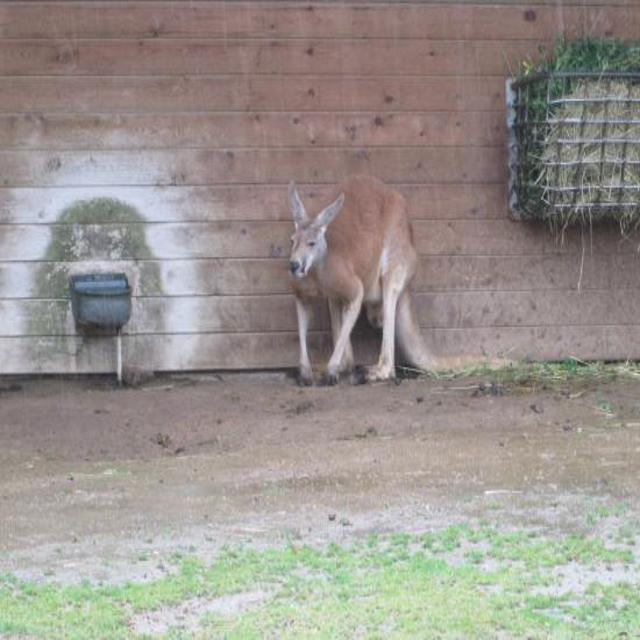kangaroo: (275, 166, 435, 381)
